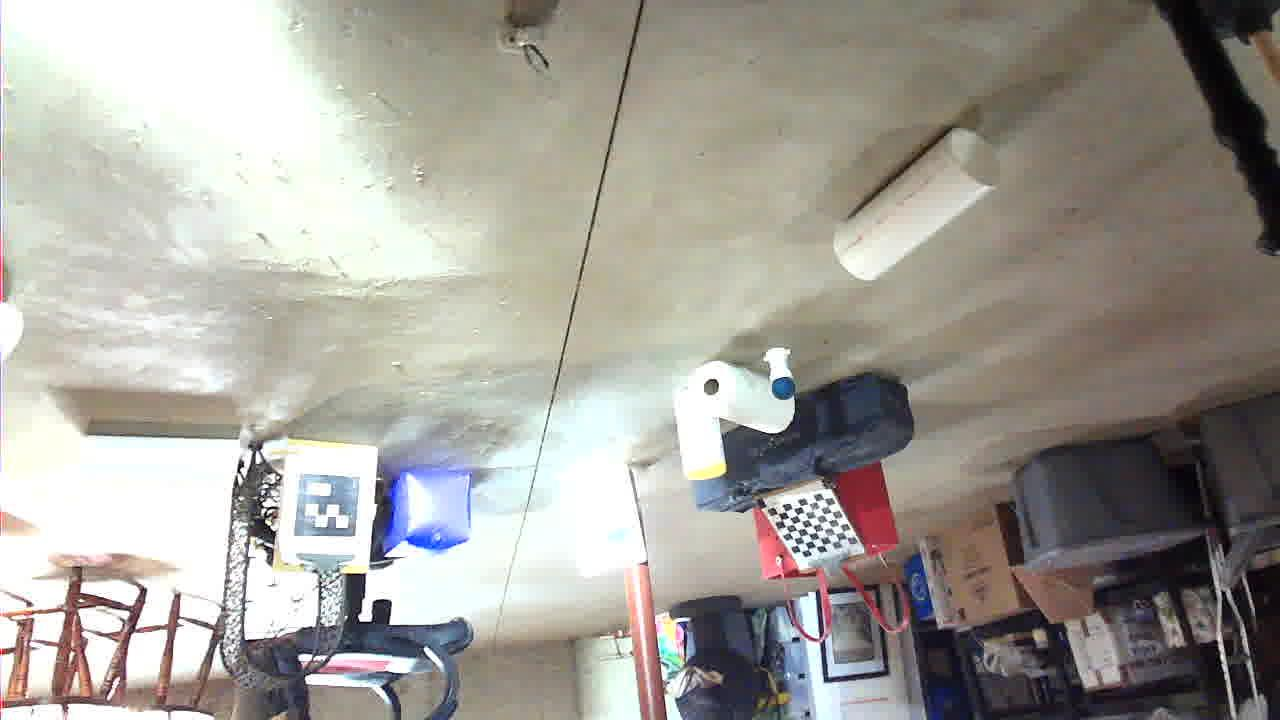coral: (282, 440, 445, 594)
